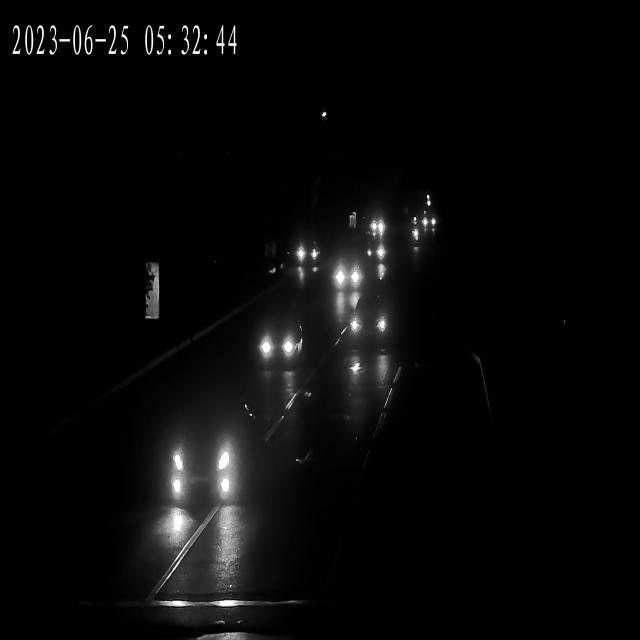Car: (176, 380, 259, 506), (256, 313, 304, 372), (352, 289, 393, 348), (286, 225, 328, 269), (335, 244, 368, 295), (408, 206, 439, 248), (365, 227, 389, 268), (364, 212, 386, 230)
